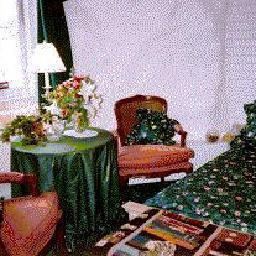Cama: (88, 105, 254, 253)
Ventana: (1, 1, 39, 90)
